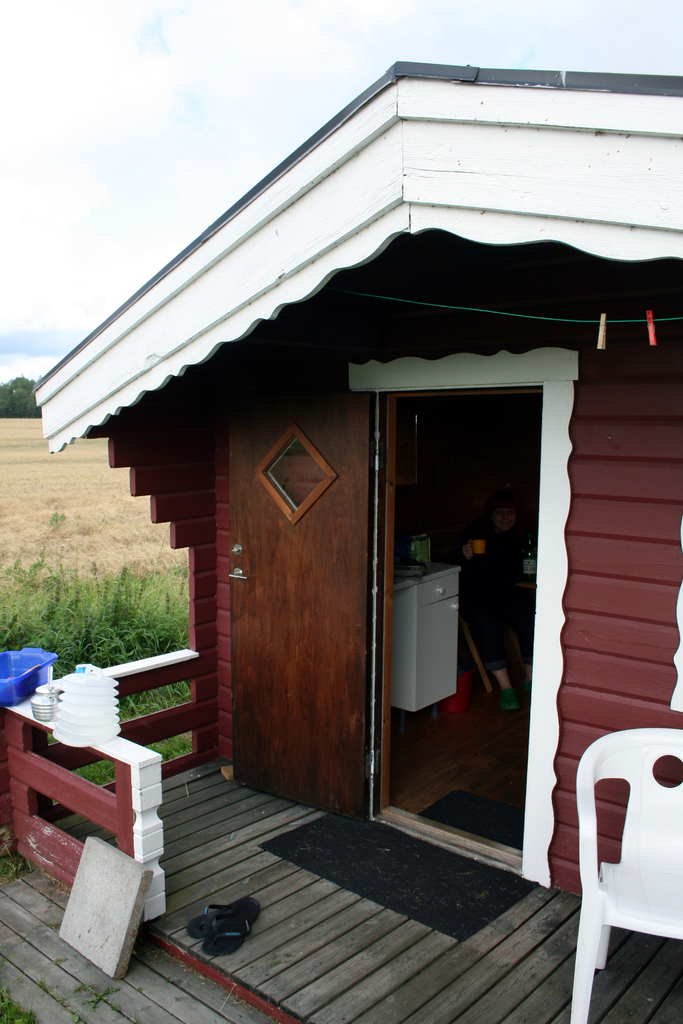Chair: (566, 725, 680, 1002)
